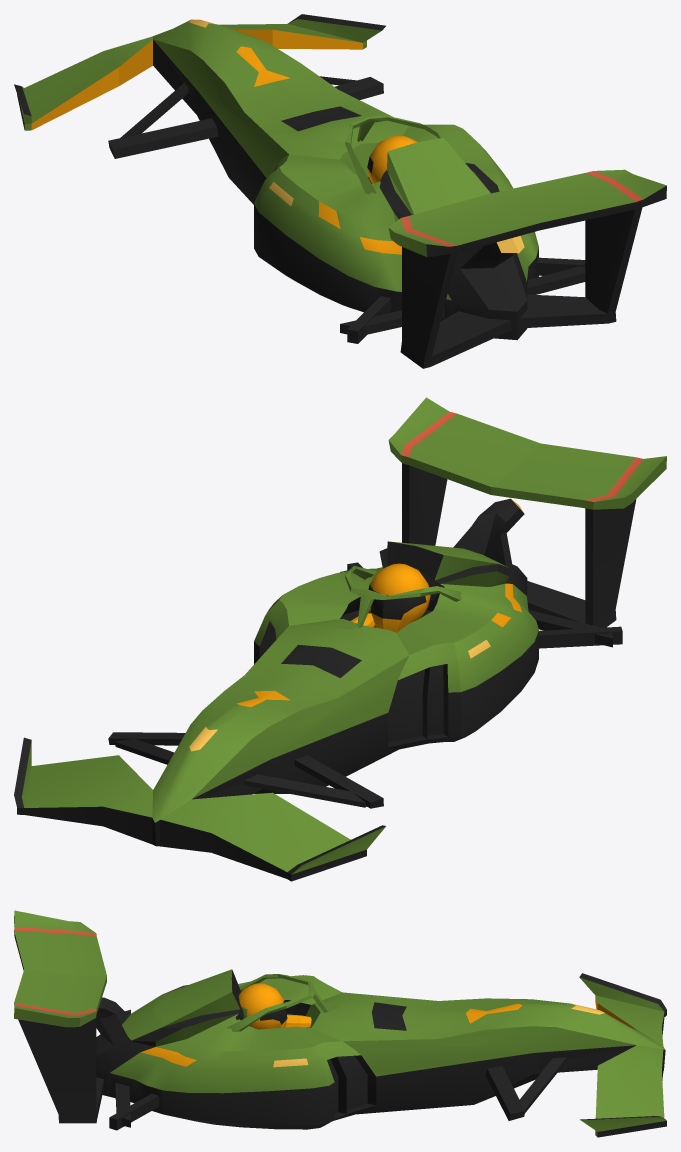
Rendered from formula1_green.glb.
3 renders of one model, top to bottom at view 1: azimuth 30°, elevation 25°; view 2: azimuth 150°, elevation 25°; view 3: azimuth 270°, elevation 25°, orthographic. The views are drawn at different scales.
Parts seen in each view (by area): view 1: formula1_green; view 2: formula1_green; view 3: formula1_green.
Boxes of the visible parts, box(x1,y1,x2,y2) form: formula1_green: box(14, 14, 666, 368); formula1_green: box(14, 397, 666, 881); formula1_green: box(14, 910, 666, 1137).
Size of the model in its own units: 1.44 by 0.5998 by 2.7.
1 material, 1 textured.
